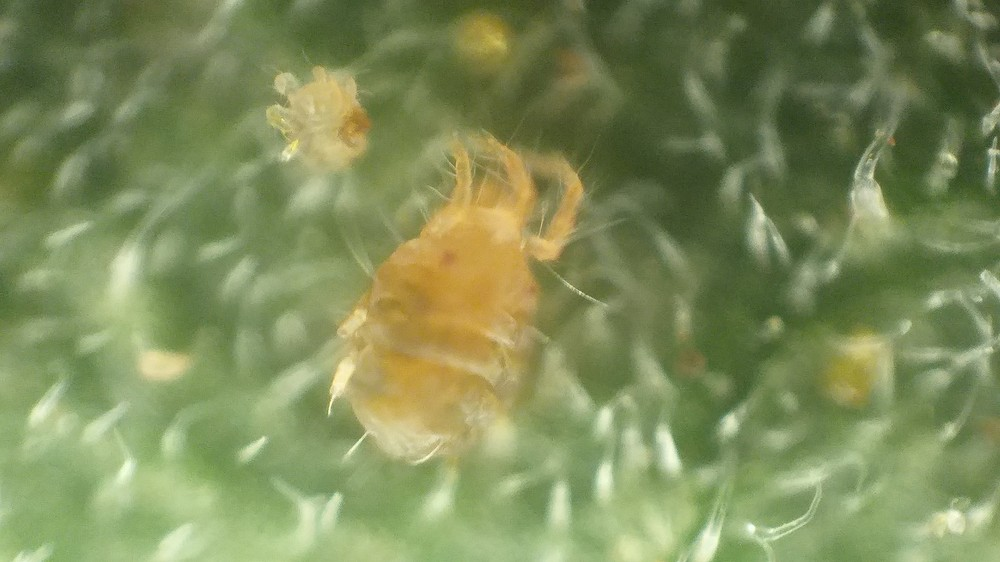Aracnido Rojo: (328, 127, 616, 503), (262, 58, 387, 172)
